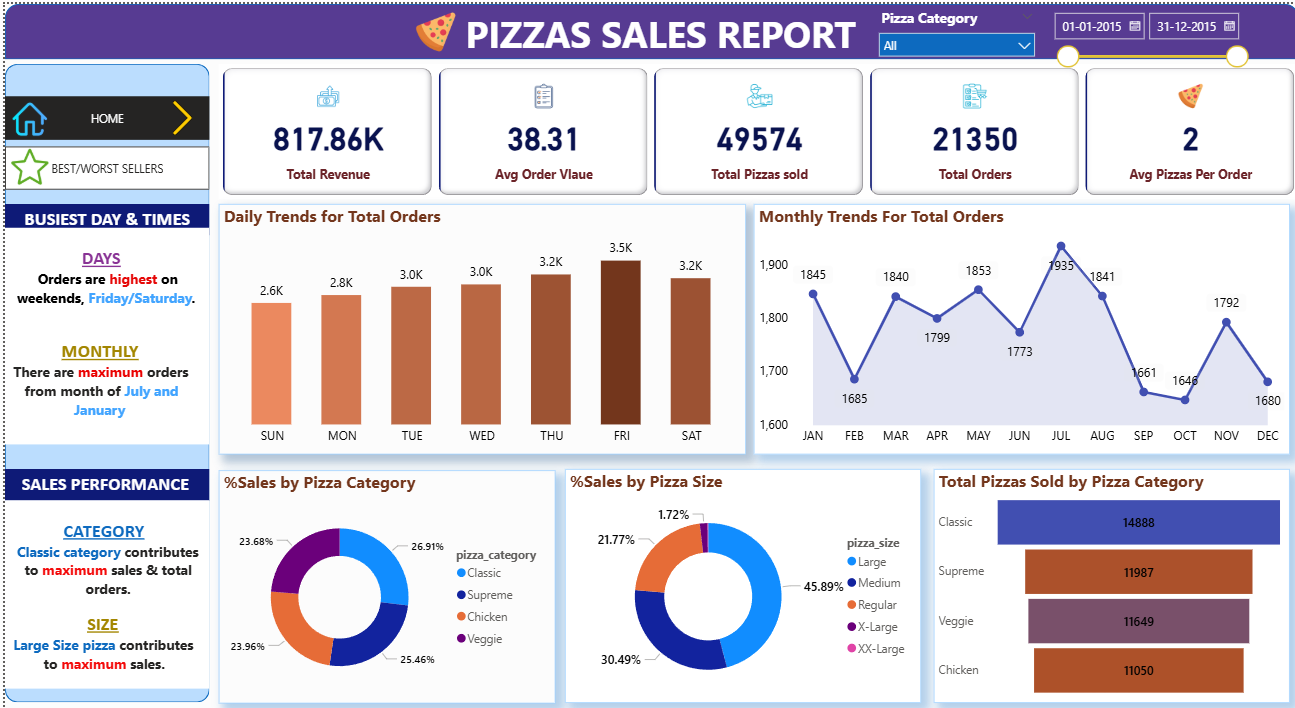

Layout of this report page (visuals, bound fields, positions):
{"tool":"powerbi","page":{"name":"HOME","canvas":[1500,820],"ordinal":0},"visuals":[{"type":"shape","box":[0,0,1500,64.3],"z":0},{"type":"cardVisual","fields":{"Data":["Sum(pizza_sales.total_price)","pizza_sales.Sum of total_price divided by Count of order_id","Sum(pizza_sales.quantity)","Count(pizza_sales.order_id)","pizza_sales.Sum of quantity divided by Count of order_id"]},"box":[247.1,70,1252.9,157.1],"z":1000},{"type":"textbox","box":[528.3,0,473.6,69.8],"z":2000},{"type":"image","box":[471.7,0,56.6,64.2],"z":3000},{"type":"clusteredColumnChart","title":"Daily Trends for Total Orders","fields":{"Category":["pizza_sales.Order Day"],"Y":["Count(pizza_sales.order_id)"]},"box":[247.1,231.4,611.4,290],"z":4000},{"type":"areaChart","title":"Monthly Trends For Total Orders","fields":{"Category":["pizza_sales.Order Month"],"Y":["Count(pizza_sales.order_id)"]},"box":[868.6,231.4,621.4,290],"z":5000},{"type":"donutChart","title":"%Sales by Pizza Category","fields":{"Category":["pizza_sales.pizza_category"],"Y":["Sum(pizza_sales.total_price)"]},"box":[247.5,541,390.2,270.5],"z":6000},{"type":"donutChart","title":"%Sales by Pizza Size","fields":{"Category":["pizza_sales.pizza_size"],"Y":["Sum(pizza_sales.total_price)"]},"box":[650,538.6,412.9,271.4],"z":7000},{"type":"shape","box":[0,70,237.1,740],"z":8000},{"type":"funnel","title":"Total Pizzas Sold by Pizza Category","fields":{"Category":["pizza_sales.pizza_category"],"Y":["Sum(pizza_sales.quantity)"]},"box":[1077.1,538.6,412.9,271.4],"z":9000},{"type":"textbox","box":[0,231.4,237.1,35.7],"z":10000},{"type":"textbox","box":[0,260,237.1,251.4],"z":11000},{"type":"textbox","box":[0,538.6,237.1,37.1],"z":12000},{"type":"textbox","box":[0,575.7,237.1,218.6],"z":13000},{"type":"slicer","fields":{"Values":["pizza_sales.pizza_category"]},"box":[1002.9,0,201.4,64.3],"z":14000},{"type":"slicer","fields":{"Values":["pizza_sales.order_date"]},"box":[1204.3,0,245.7,81.4],"z":15000},{"type":"pageNavigator","box":[0,107.1,237.1,50],"z":16000},{"type":"pageNavigator","box":[0,165.7,237.1,50],"z":17000},{"type":"image","box":[175.7,107.1,61.4,50],"z":18000},{"type":"image","box":[0,108.6,57.1,50],"z":19000},{"type":"image","box":[0,162.9,57.1,52.9],"z":20000}]}

Visuals, with their boxes in screenshot pixels (x1, y1, x2, y2), scaled from the page's 1500x820 canvas onto the 1295x708 screenshot:
shape: bbox=(0, 0, 1294, 56)
cardVisual - Sum(pizza_sales.total_price) x pizza_sales.Sum of total_price divided by Count of order_id: bbox=(213, 60, 1294, 196)
textbox: bbox=(456, 0, 865, 60)
image: bbox=(407, 0, 456, 55)
"Daily Trends for Total Orders" clusteredColumnChart: bbox=(213, 200, 741, 450)
"Monthly Trends For Total Orders" areaChart: bbox=(750, 200, 1286, 450)
"%Sales by Pizza Category" donutChart: bbox=(214, 467, 551, 701)
"%Sales by Pizza Size" donutChart: bbox=(561, 465, 918, 699)
shape: bbox=(0, 60, 205, 699)
"Total Pizzas Sold by Pizza Category" funnel: bbox=(930, 465, 1286, 699)
textbox: bbox=(0, 200, 205, 231)
textbox: bbox=(0, 224, 205, 442)
textbox: bbox=(0, 465, 205, 497)
textbox: bbox=(0, 497, 205, 686)
slicer - pizza_sales.pizza_category: bbox=(866, 0, 1040, 56)
slicer - pizza_sales.order_date: bbox=(1040, 0, 1252, 70)
pageNavigator: bbox=(0, 92, 205, 136)
pageNavigator: bbox=(0, 143, 205, 186)
image: bbox=(152, 92, 205, 136)
image: bbox=(0, 94, 49, 137)
image: bbox=(0, 141, 49, 186)
